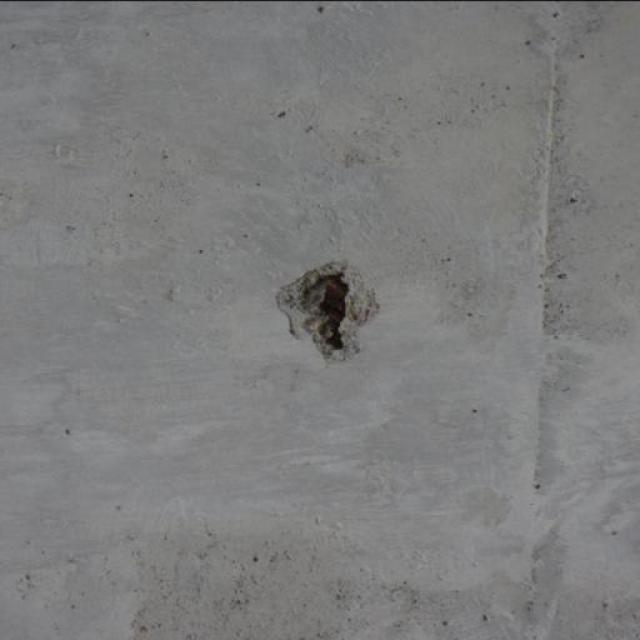D10: (275, 260, 378, 360)
